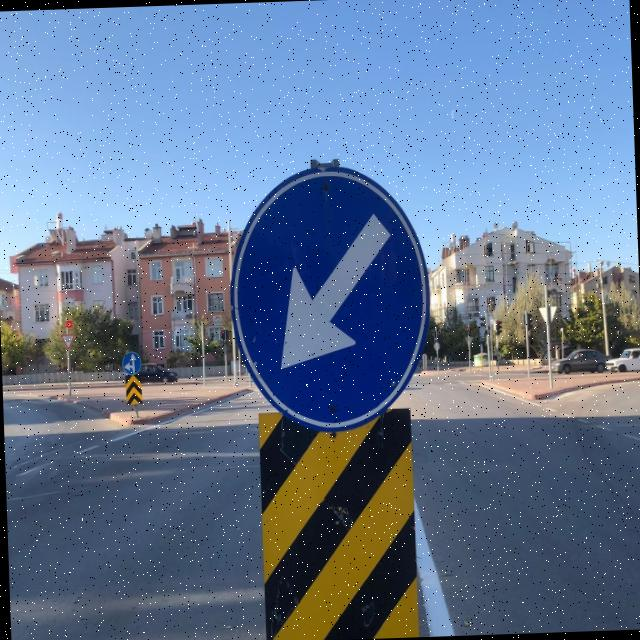compulsory_keep_right: (221, 158, 442, 435)
